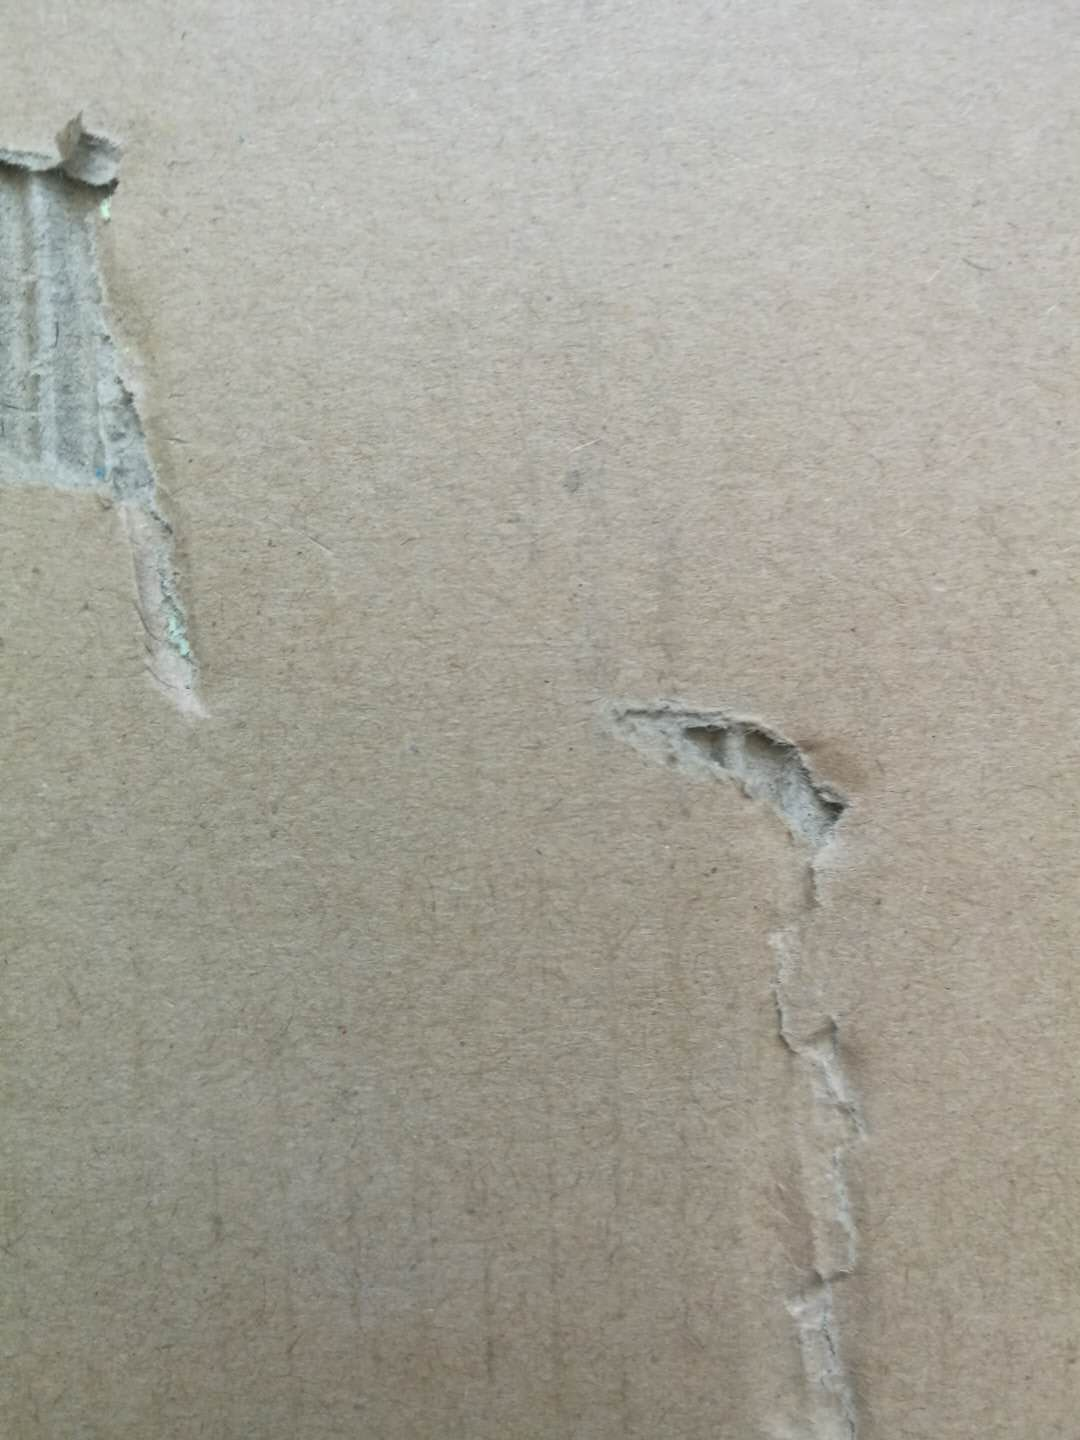defect: (580, 652, 987, 1440), (1, 85, 259, 742)
